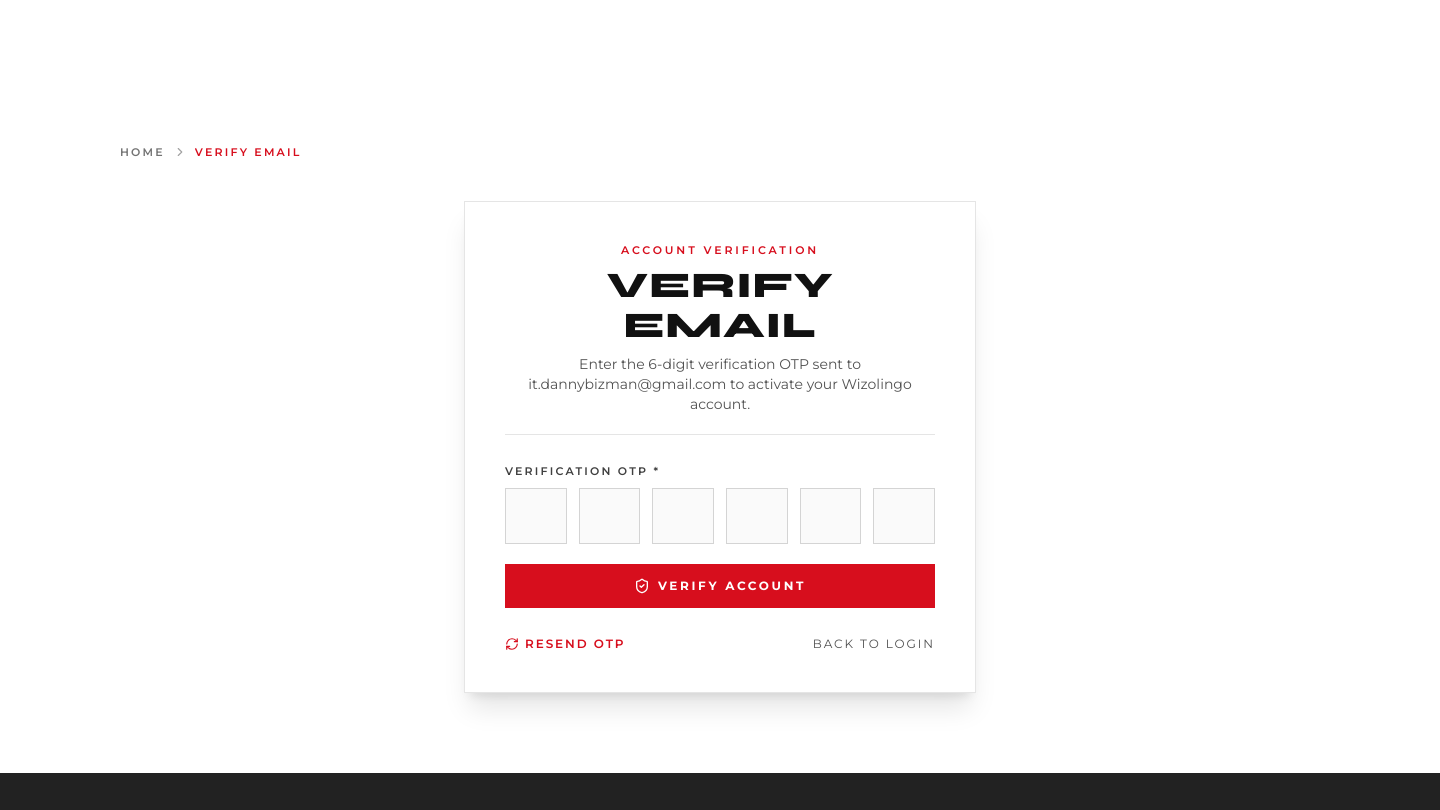
Test: VerifyEmailForm integration › validates incomplete OTP inline and submits 6-digit OTP
The image size is (1440, 810).
Later steps or results of the test are not shown.
Click the button "VERIFY ACCOUNT".
click(720, 586)  # box [505,564,935,608]
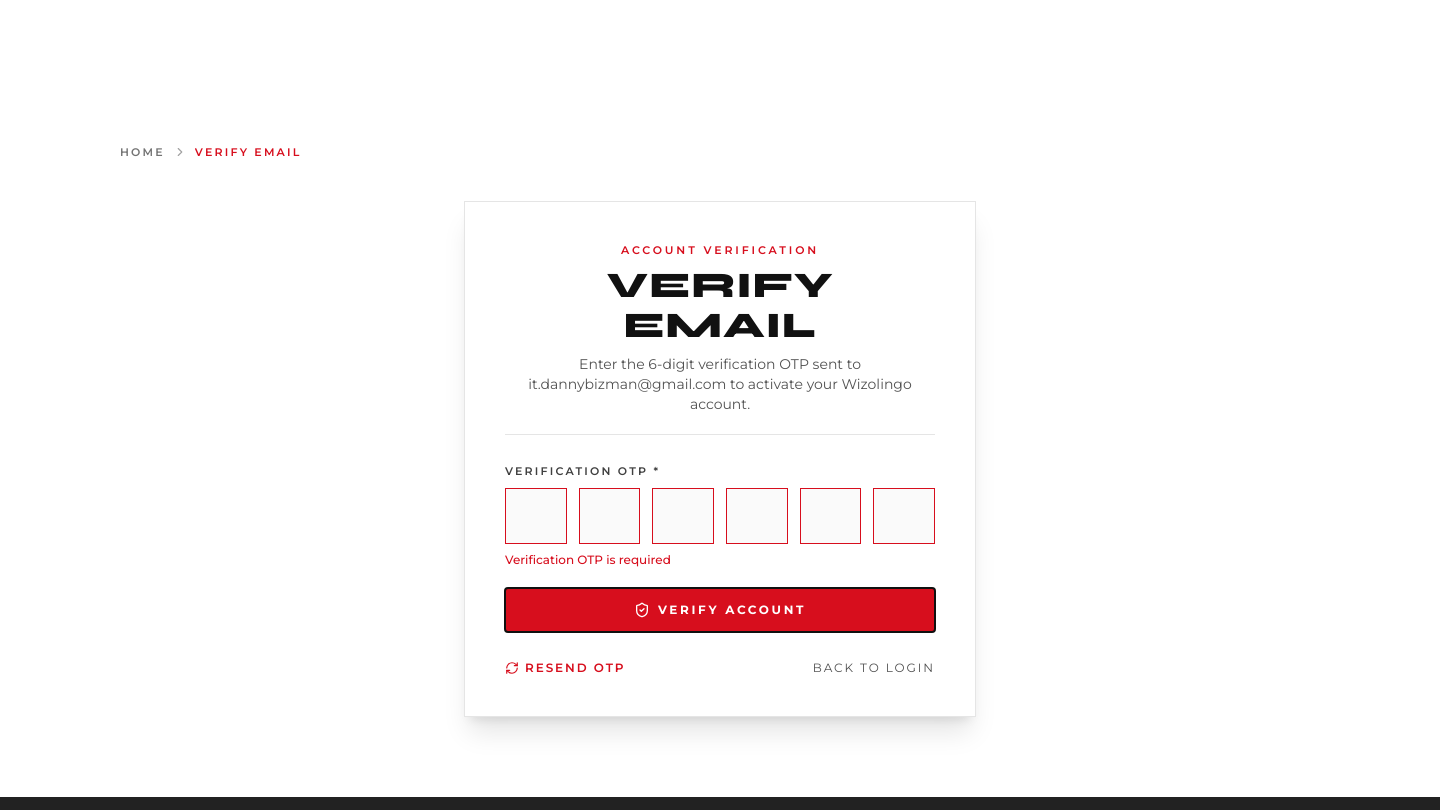
Now the text "Verification OTP is required" is shown, box [505,552,671,566]
